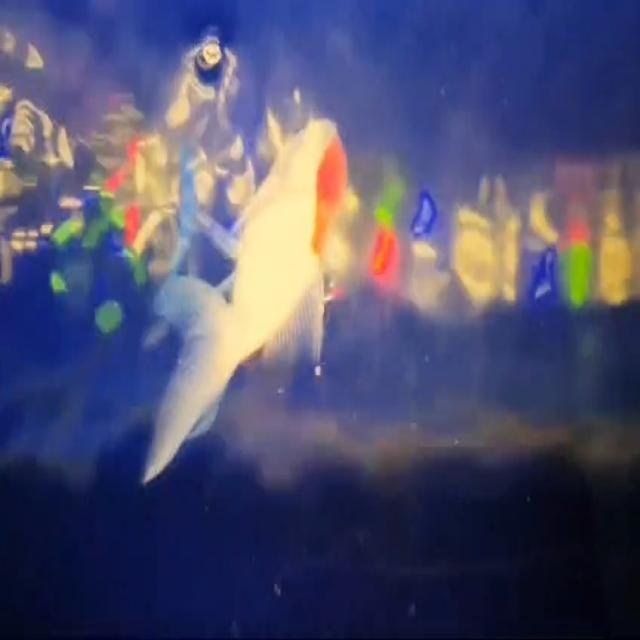fish: (141, 117, 359, 490)
